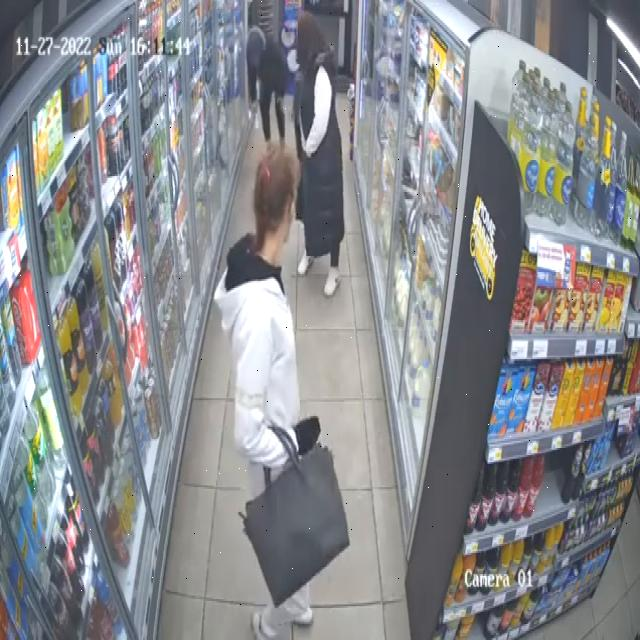bags: (238, 428, 349, 603)
person: (214, 148, 349, 638), (293, 14, 344, 295), (247, 27, 285, 142)
